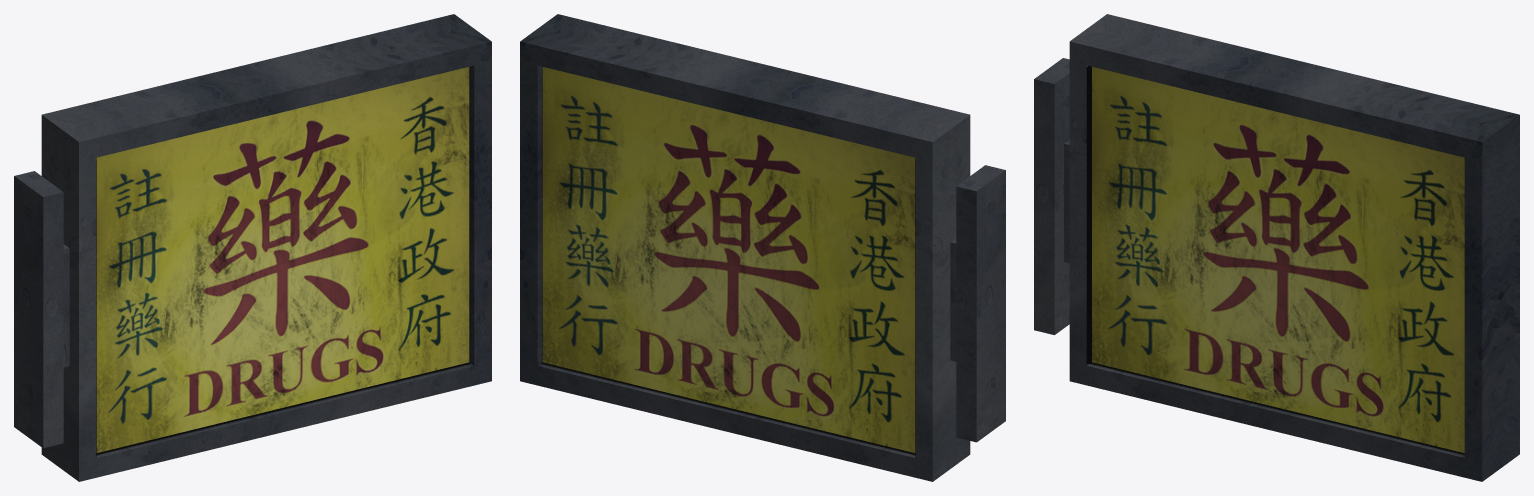
Rendered from Neon_Sign_B.FBX.
3 views of the same model, side by side, from view 1: azimuth 30°, elevation 25°; view 2: azimuth 150°, elevation 25°; view 3: azimuth 330°, elevation 25° (orthographic).
Parts seen in each view (by area): view 1: Sign_B, Sign_WallMounting; view 2: Sign_B, Sign_WallMounting; view 3: Sign_B, Sign_WallMounting.
Boxes of the visible parts, x1,y1,x2,y2 form: Sign_B: (41,14,491,481); Sign_WallMounting: (14,171,69,448); Sign_B: (520,14,970,481); Sign_WallMounting: (950,165,1005,442); Sign_B: (1069,14,1519,481); Sign_WallMounting: (1034,58,1069,334).
Size of the model in its own units: 80.77 by 58.49 by 11.73.
